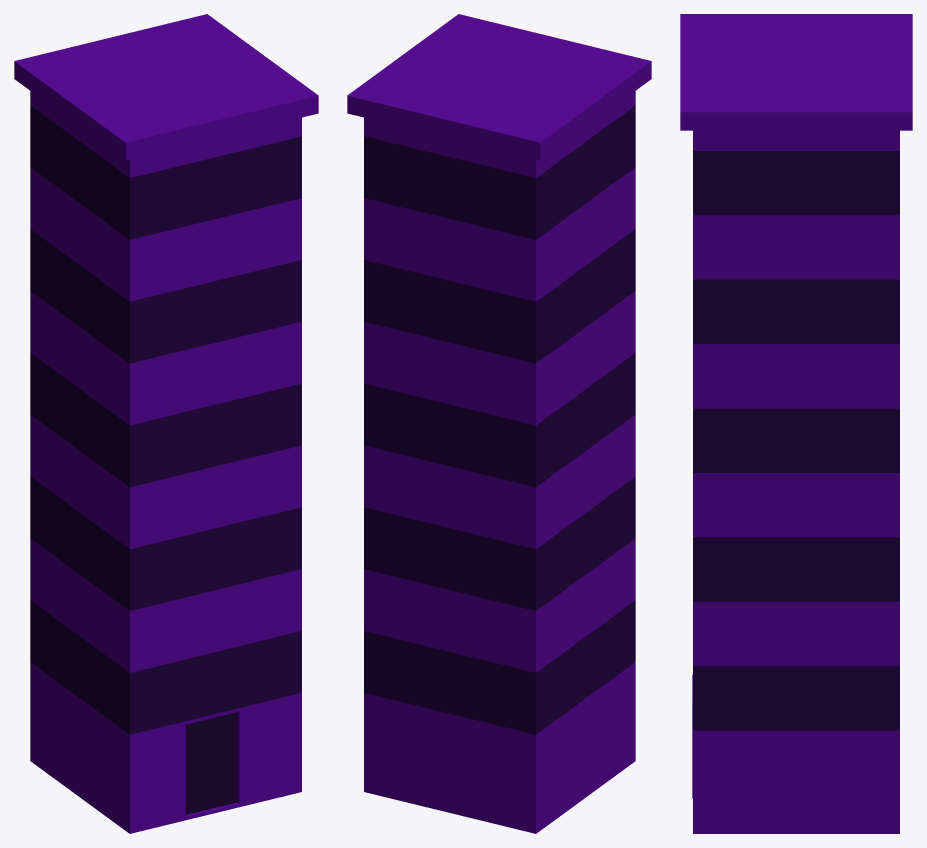
File: Morado Edificio 2.glb
3 renders of one model, left to right at view 1: azimuth 30°, elevation 25°; view 2: azimuth 150°, elevation 25°; view 3: azimuth 270°, elevation 25°, orthographic. The views are drawn at different scales.
Parts seen in each view (by area): view 1: Cube.004; view 2: Cube.004; view 3: Cube.004.
Boxes of the visible parts, x1,y1,x2,y2 form: Cube.004: (14, 14, 318, 833); Cube.004: (347, 14, 651, 833); Cube.004: (680, 14, 912, 833).
Bounding box in the file's own units: 16.34 × 56.43 × 16.34.
